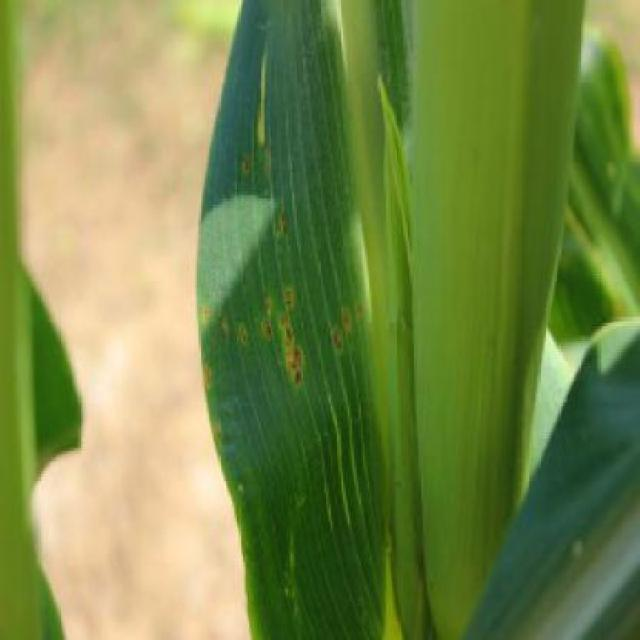Corn_Rust: (175, 114, 392, 466)
